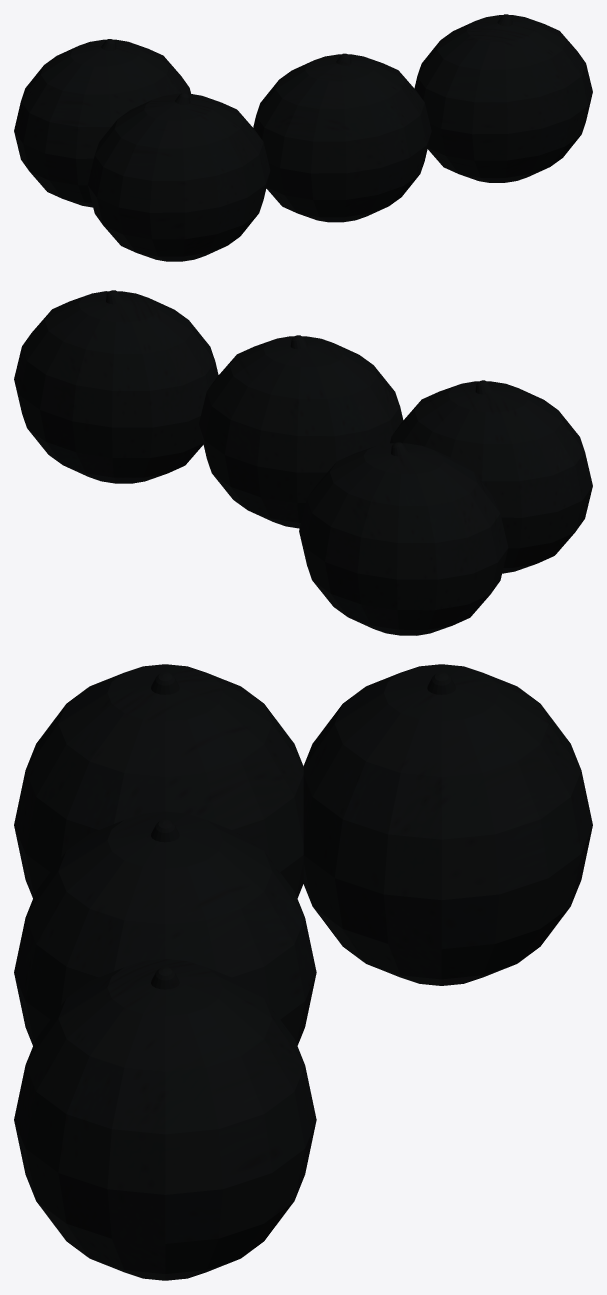
The model's file is PROP-64DCD9A70698_lod0.glb.
3 renders of one model, top to bottom at view 1: azimuth 30°, elevation 25°; view 2: azimuth 150°, elevation 25°; view 3: azimuth 270°, elevation 25°, orthographic. The views are drawn at different scales.
Parts seen in each view (by area): view 1: rubbish_bag.001, bag_knot.001; view 2: rubbish_bag.001, bag_knot.001; view 3: rubbish_bag.001, bag_knot.001.
Boxes of the visible parts, x1,y1,x2,y2 form: rubbish_bag.001: [14, 15, 592, 261]; bag_knot.001: [101, 14, 512, 104]; rubbish_bag.001: [14, 291, 592, 635]; bag_knot.001: [106, 290, 492, 456]; rubbish_bag.001: [14, 664, 592, 1280]; bag_knot.001: [151, 672, 455, 989].
Bounding box in the file's own units: 1.6 × 0.5011 × 0.88.
1 material, 1 textured.
